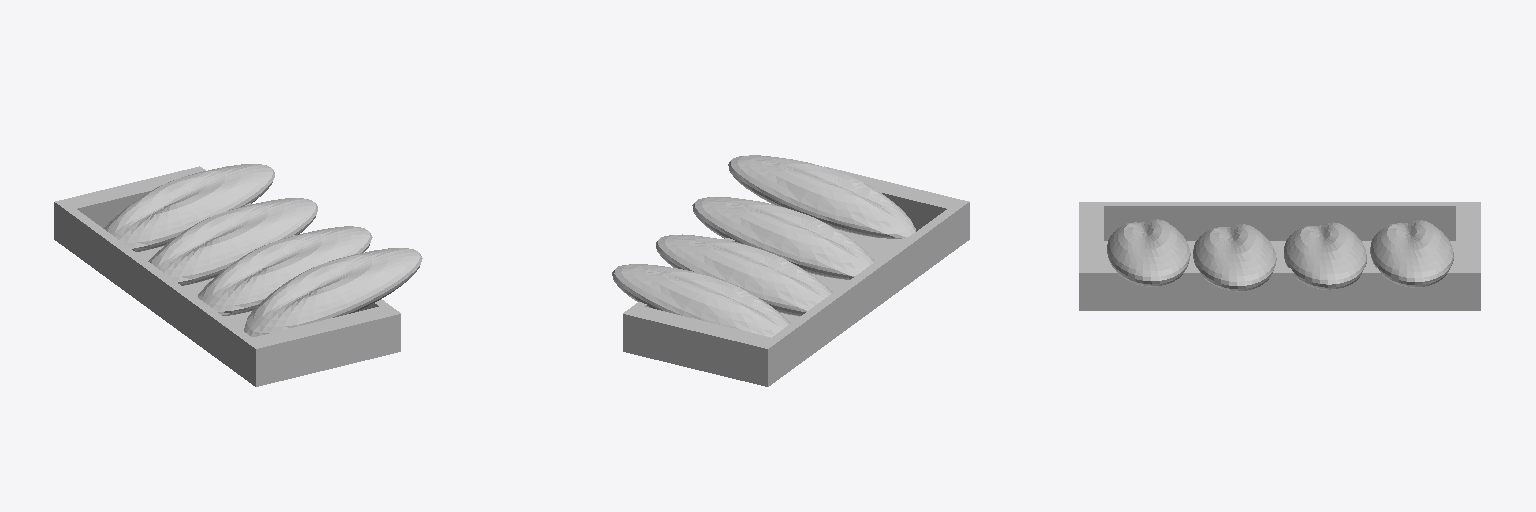
File: BAGEA KENARI.obj
The picture shows the model from 3 angles: view 1: azimuth 30°, elevation 25°; view 2: azimuth 150°, elevation 25°; view 3: azimuth 270°, elevation 25°; orthographic projection.
Parts seen in each view (by area): view 1: Cube_Cube.001, Sphere, Sphere.003, Sphere.002, Sphere.001; view 2: Cube_Cube.001, Sphere, Sphere.001, Sphere.002, Sphere.003; view 3: Cube_Cube.001, Sphere, Sphere.003, Sphere.001, Sphere.002.
Part boxes in pixels (x1,y1,x2,y2): Cube_Cube.001: (54,166,400,386); Sphere: (244,248,422,336); Sphere.003: (104,164,274,251); Sphere.002: (148,198,317,285); Sphere.001: (198,226,372,315); Cube_Cube.001: (623,166,969,386); Sphere: (728,155,915,238); Sphere.001: (692,197,874,279); Sphere.002: (656,234,832,316); Sphere.003: (612,264,790,337); Cube_Cube.001: (1079,202,1480,310); Sphere: (1107,219,1190,286); Sphere.003: (1370,220,1453,287); Sphere.001: (1193,224,1276,291); Sphere.002: (1284,222,1366,289).
Size of the model in its own units: 0.979 by 0.3052 by 1.69.